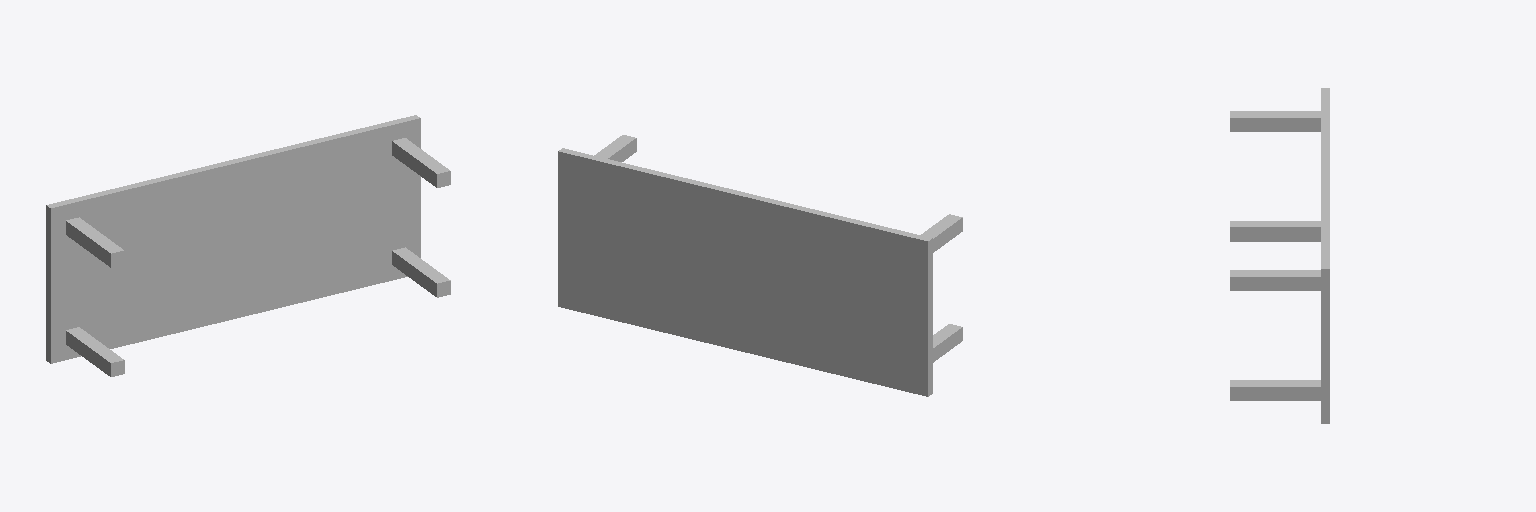
File: random_table29.obj
3 views of the same model, side by side, from view 1: azimuth 30°, elevation 25°; view 2: azimuth 150°, elevation 25°; view 3: azimuth 270°, elevation 25° (orthographic).
Parts seen in each view (by area): view 1: Table_Cube.340, TableLeg1_Cube.342, TableLeg0_Cube.341, TableLeg2_Cube.343, TableLeg3_Cube.344; view 2: Table_Cube.340, TableLeg1_Cube.342, TableLeg3_Cube.344, TableLeg0_Cube.341; view 3: Table_Cube.340, TableLeg0_Cube.341, TableLeg1_Cube.342, TableLeg2_Cube.343, TableLeg3_Cube.344.
Part boxes in pixels (x1,y1,x2,y2): Table_Cube.340: (46,115,420,363); TableLeg1_Cube.342: (66,217,124,267); TableLeg0_Cube.341: (392,138,450,187); TableLeg2_Cube.343: (392,247,450,297); TableLeg3_Cube.344: (66,327,124,376); Table_Cube.340: (558,148,932,396); TableLeg1_Cube.342: (921,214,962,252); TableLeg3_Cube.344: (933,324,962,362); TableLeg0_Cube.341: (594,135,636,161); Table_Cube.340: (1321,88,1329,423); TableLeg0_Cube.341: (1230,270,1320,290); TableLeg1_Cube.342: (1230,111,1320,131); TableLeg2_Cube.343: (1230,380,1320,400); TableLeg3_Cube.344: (1230,221,1320,241).
Size of the model in its own units: 13.25 by 5.32 by 3.08.